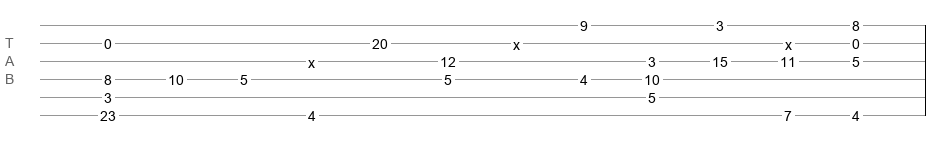0: (104, 36, 112, 46), (852, 36, 860, 46)
10: (168, 72, 184, 82), (644, 72, 660, 82)
11: (780, 54, 796, 64)
12: (440, 54, 456, 64)
15: (712, 54, 728, 64)
20: (372, 36, 388, 46)
23: (100, 108, 116, 118)
3: (104, 90, 112, 100), (648, 54, 656, 64), (716, 18, 724, 28)
4: (308, 108, 316, 118), (580, 72, 588, 82), (852, 108, 860, 118)
5: (240, 72, 248, 82), (444, 72, 452, 82), (648, 90, 656, 100), (852, 54, 860, 64)
7: (784, 108, 792, 118)
8: (104, 72, 112, 82), (852, 18, 860, 28)
9: (580, 18, 588, 28)
x: (308, 55, 315, 63), (513, 37, 520, 45), (785, 37, 792, 45)
